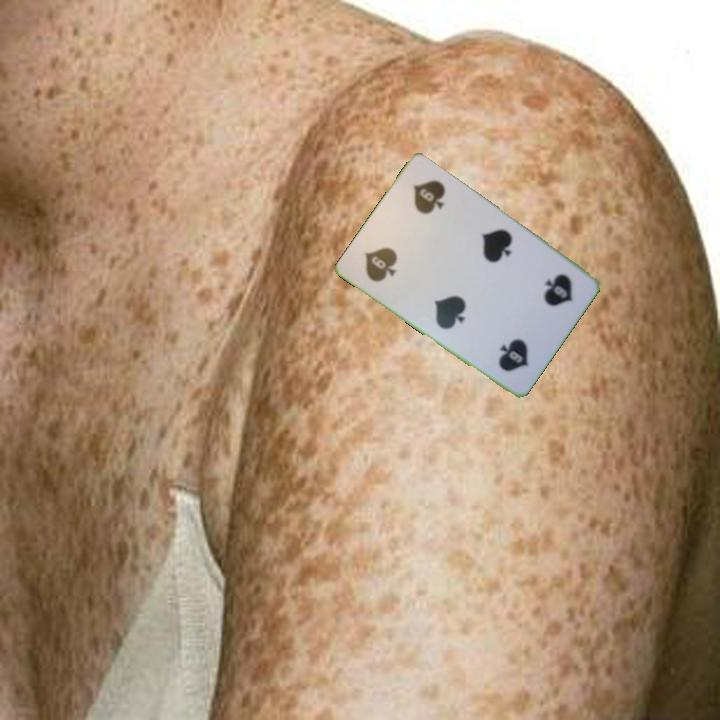s_6.png: (346, 214, 430, 300), (507, 251, 590, 337)
